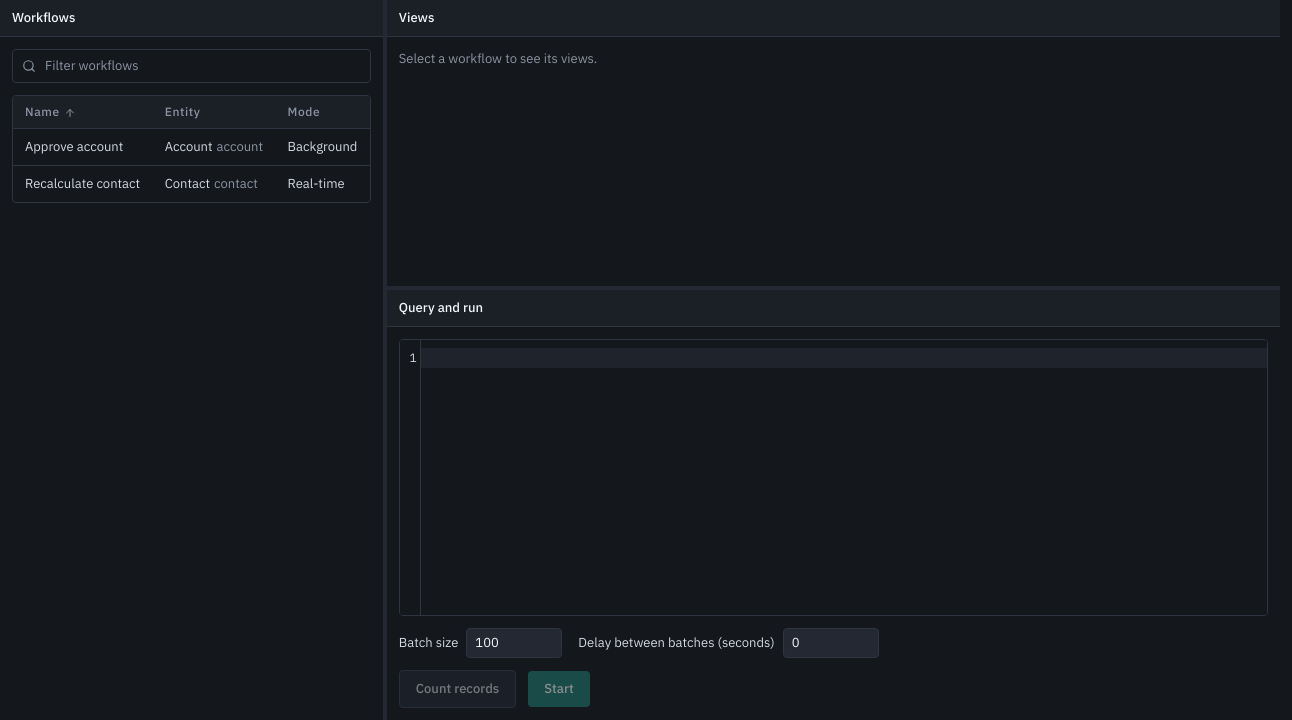
it: Bulk Workflow Execution › lists workflows, loads views for the picked workflow, and fills the editor from a view
The width and height of the screenshot is (1292, 720).
Expected: the text "Recalculate contact" is shown, [13,166,153,202]
Expected: the text "Select a workflow to see its views." is shown, [399,50,597,67]
What coordinates should you click on to do the following:
click the text "Approve account"
I would click on:
 (83, 147)
Its box is [13,128,153,166].
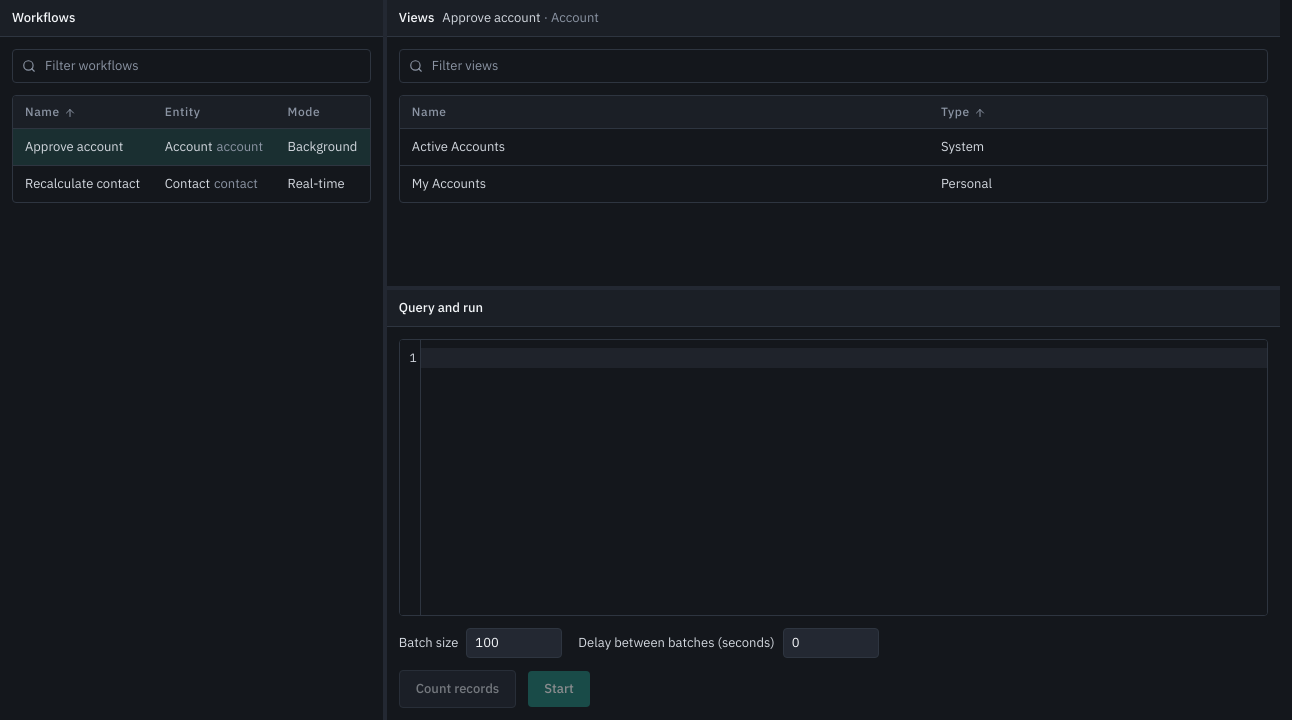
Result: the row "Active Accounts System" is shown at [400,128,1267,166]
Result: the row "My Accounts Personal" is shown at [400,166,1267,202]
What coordinates should you click on to do the following:
click the text "My Accounts"
I would click on:
 (449, 184)
Its box is [400,166,929,202].
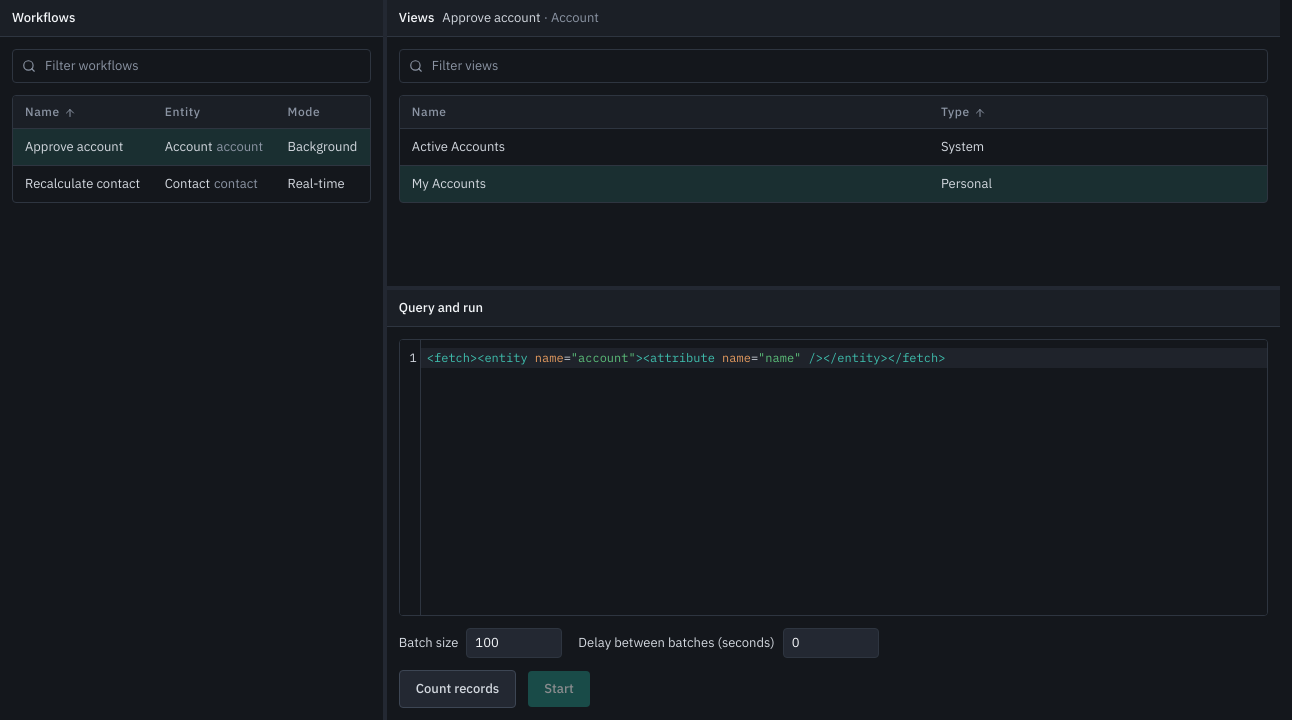
What coordinates should you click on to do the following:
click the text "Active Accounts"
I would click on:
 (458, 146)
Its box is [400,128,929,166].
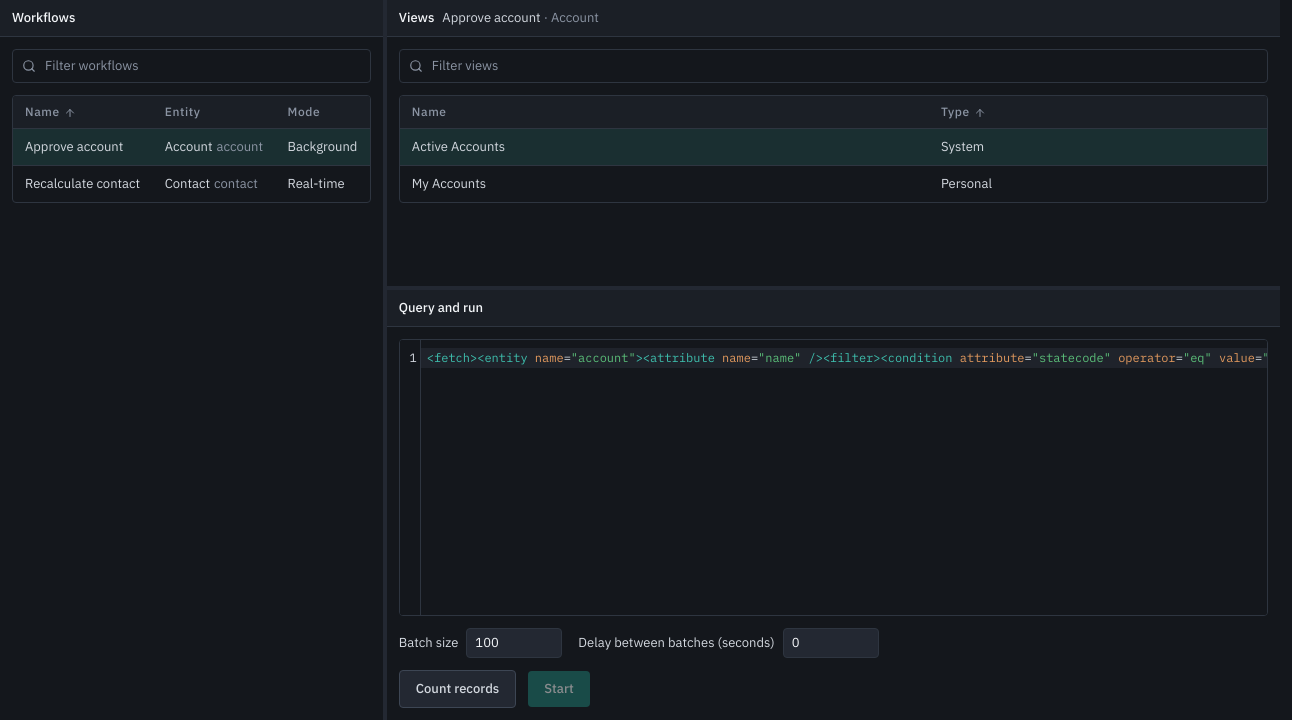
What coordinates should you click on to do the following:
click the text "Recalculate contact"
I would click on:
 (83, 184)
Its box is [13,166,153,202].
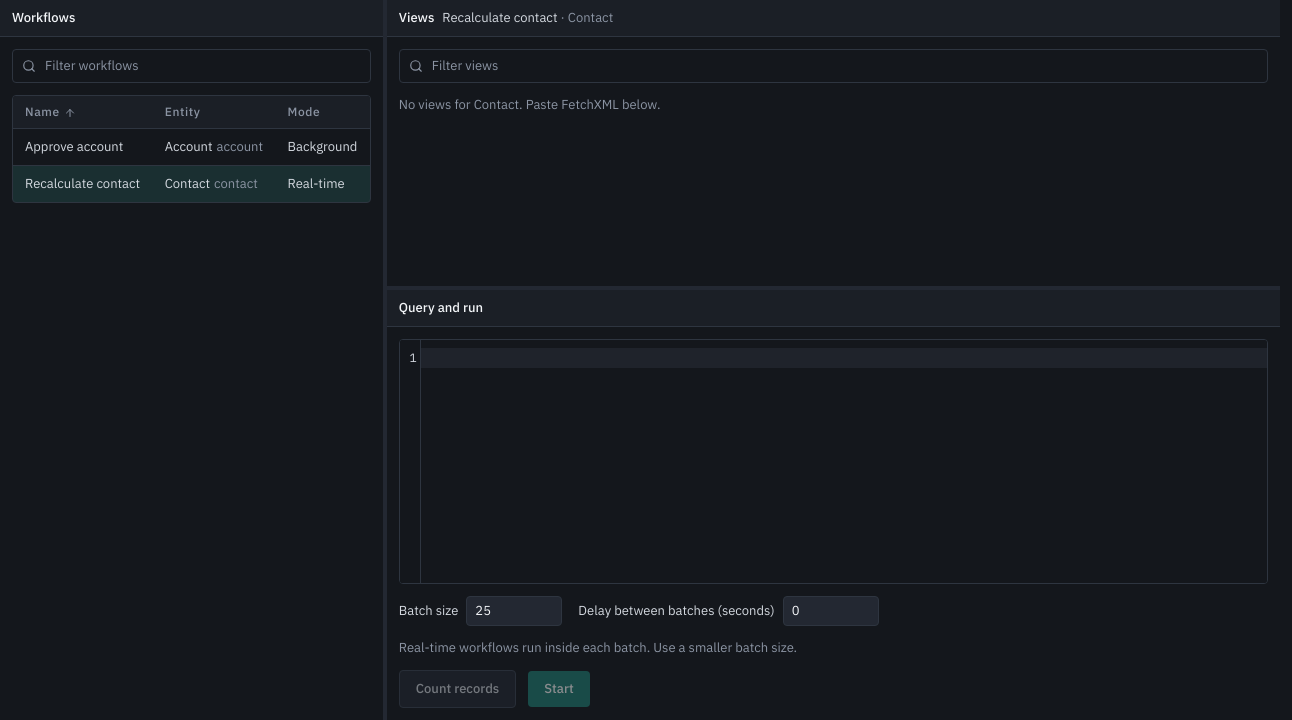
Result: the text "No views for Contact. Paste FetchXML below." is shown at [399,96,660,113]
Result: the text "Real-time workflows run inside each batch. Use a smaller batch size." is shown at [399,639,797,656]
Result: the number field labelled "Batch size" holds "25" at [466,596,562,626]
